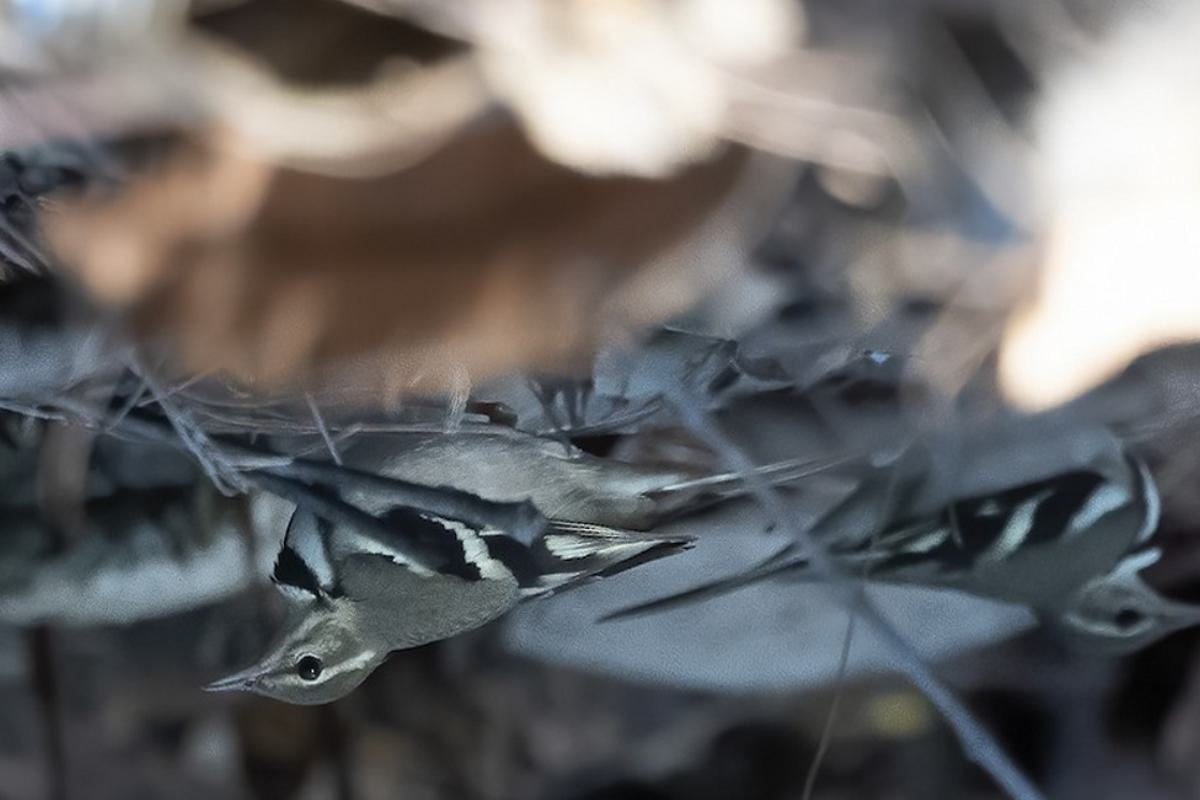wagtail: (201, 372, 664, 727)
